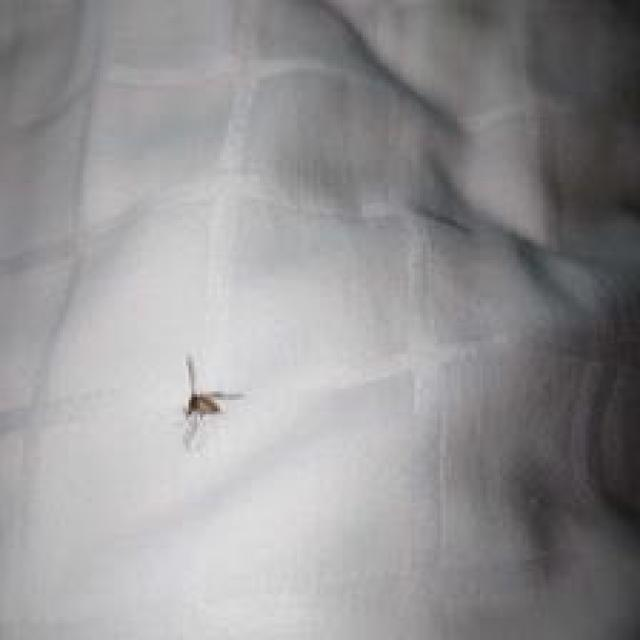Culex: (179, 353, 244, 450)
